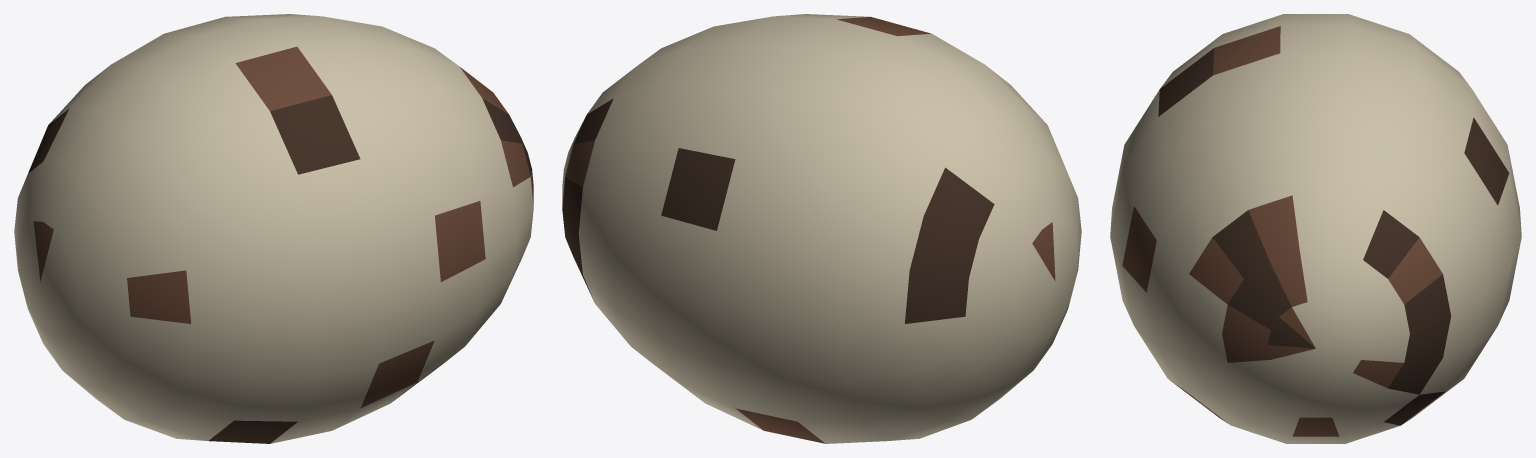
File: kit_quail_egg.glb
3 renders of one model, left to right at view 1: azimuth 30°, elevation 25°; view 2: azimuth 150°, elevation 25°; view 3: azimuth 270°, elevation 25°, orthographic. The views are drawn at different scales.
Visible parts, largest first — view 1: body; view 2: body; view 3: body.
Boxes of the visible parts, x1,y1,x2,y2 form: body: (14,14,533,443); body: (562,14,1081,443); body: (1110,14,1521,443).
Size of the model in its own units: 0.72 by 0.5515 by 0.56.
